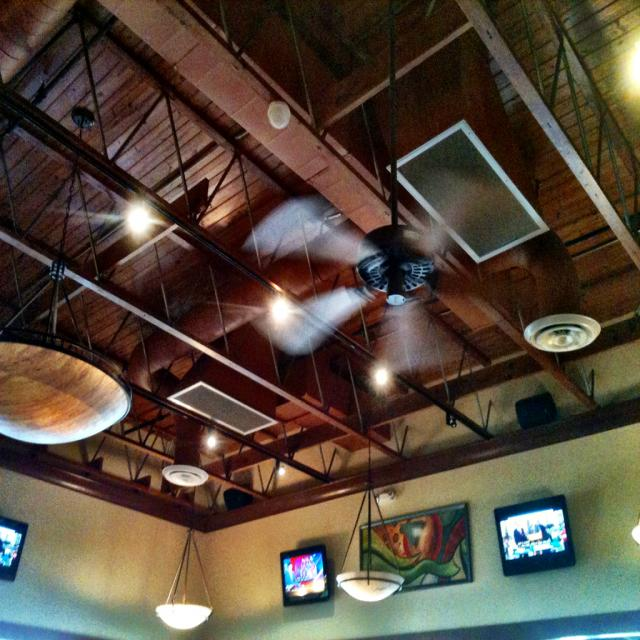Bulb: (240, 0, 532, 408)
